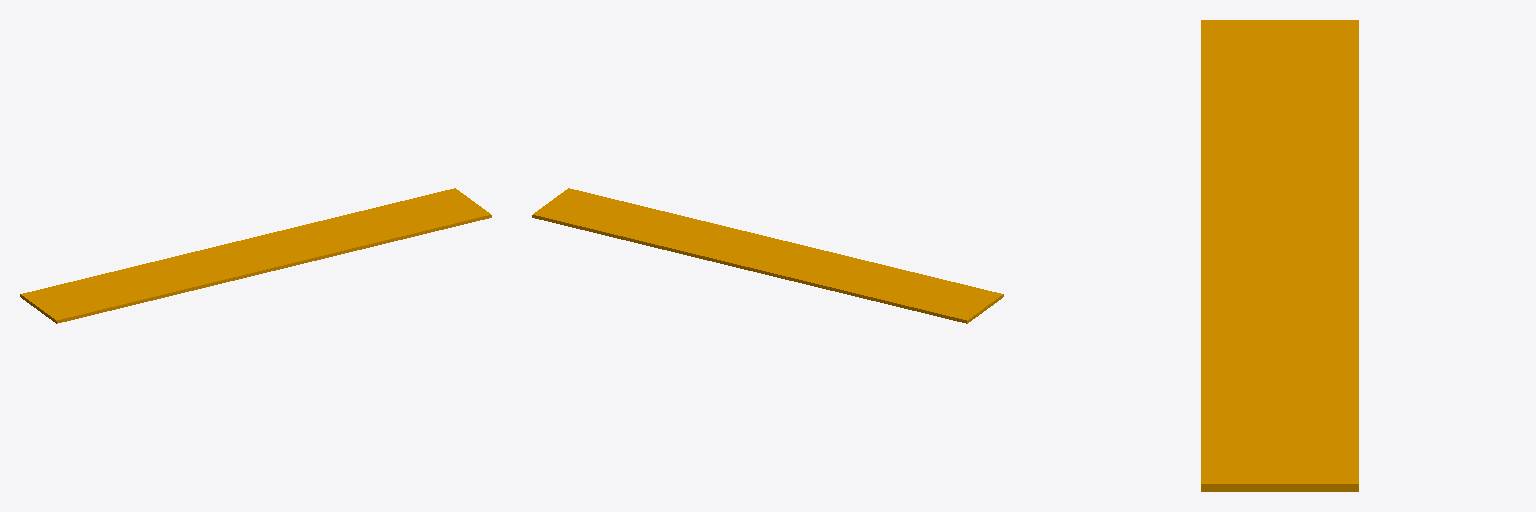
robot.urdf — scene0420_01_floor2:
<robot name="scene0420_01_floor2">
	<link name="_name">
		<visual>
			<origin xyz="0 0 0" rpy="0 0 0" />
			<geometry>
				<mesh filename="scene0420_01_floor2.obj" />
			</geometry>
		</visual>
		<collision>
			<origin rpy="0 0 0" xyz="0 0 0" />
			<geometry>
				<mesh filename="scene0420_01_floor2_vhacd.obj" />
			</geometry>
		</collision>
		<inertial>
			<origin rpy="0 0 0" xyz="0 0 0" />
			<mass value="100" />
			<inertia ixx="0.001" ixy="0.0" ixz="0.0" iyy="0.001" iyz="0.0" izz="0.001" />
		</inertial>
	</link>
</robot>

--- What the picture shows (computed from the rendered views, not written in the file) ---
3 views of the same robot in one strip: view 1: azimuth 30°, elevation 25°; view 2: azimuth 150°, elevation 25°; view 3: azimuth 270°, elevation 25° (orthographic).
Model scene0420_01_floor2 with 1 links and 0 joints (none), rooted at _name, posed every joint at zero.
Links seen in each view (by area): view 1: _name; view 2: _name; view 3: _name.
Link boxes in pixels (left/top/right/bottom): _name: left=20, top=188, right=491, bottom=323; _name: left=532, top=188, right=1003, bottom=323; _name: left=1201, top=20, right=1358, bottom=491.
Size in the robot's own frame: 6.95 by 1 by 0.05 metres.
1 mesh visuals loaded from 1 distinct referenced files (1 OBJ).
